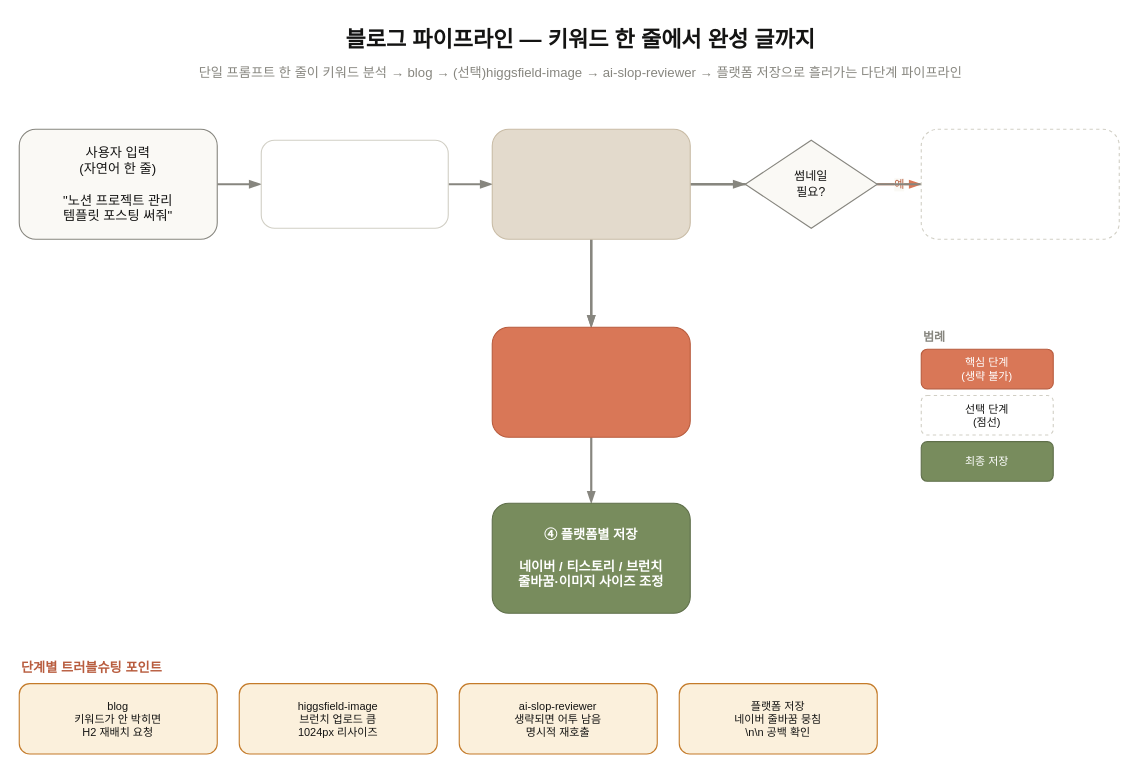
Image size: 1139x773. Some labels were removed from this diagram. The shapes that lost their labels are listed below. From the top down, each one's box as (x1, y1, x2, y2) in pixels, then its label:
(260, 139, 448, 228): 키워드 분석 검색 의도 파악 경쟁 글 스캔
(491, 128, 690, 239): ① blog 스킬 SEO · C-Rank 구조 도입-본론3단-결론 초안 작성
(920, 128, 1119, 239): ② higgsfield-image (선택) 한글 타이포 썸네일 3:4 비율
(491, 326, 690, 437): ③ ai-slop-reviewer (핵심) AI 어투 제거 사람 문장으로 자연화 ★ 항상 마지막
